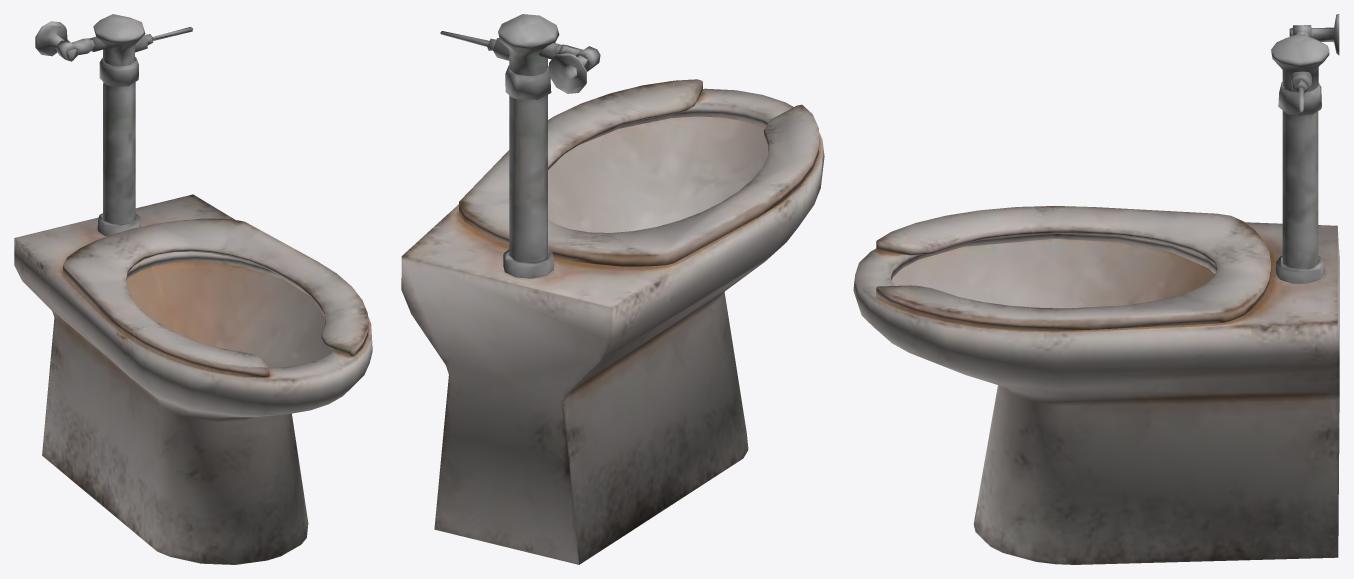
The model's file is toilet.glb.
3 renders of one model, left to right at view 1: azimuth 30°, elevation 25°; view 2: azimuth 150°, elevation 25°; view 3: azimuth 270°, elevation 25°, orthographic. The views are drawn at different scales.
Visible parts, largest first — view 1: pCylinder18_lambert1_0, pCylinder18_lambert3_0; view 2: pCylinder18_lambert1_0, pCylinder18_lambert3_0; view 3: pCylinder18_lambert1_0, pCylinder18_lambert3_0.
Boxes of the visible parts, box(x1,y1,x2,y2) form: pCylinder18_lambert1_0: box(14, 14, 372, 564); pCylinder18_lambert3_0: box(63, 218, 368, 377); pCylinder18_lambert1_0: box(401, 14, 824, 564); pCylinder18_lambert3_0: box(459, 79, 818, 266); pCylinder18_lambert1_0: box(853, 14, 1339, 564); pCylinder18_lambert3_0: box(876, 206, 1271, 331).
Bounding box in the file's own units: 0.4214 × 0.7978 × 0.7262.
2 materials, 2 textured.
